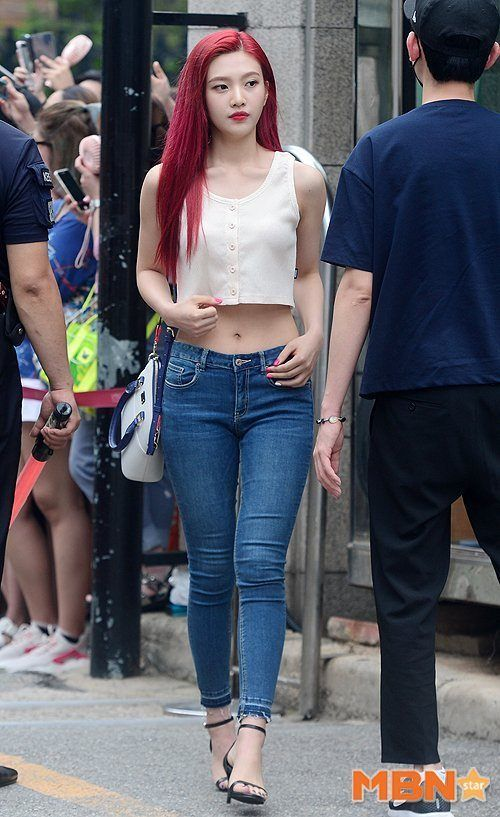people: (135, 27, 328, 808), (318, 1, 500, 817)
